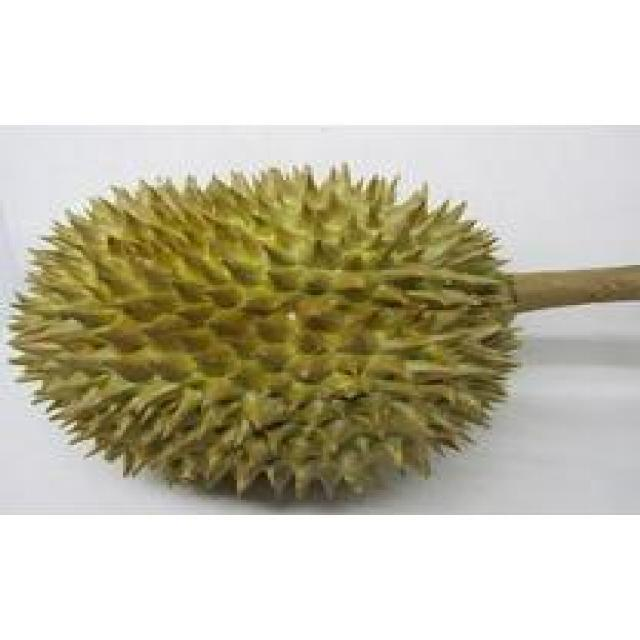fruit: (3, 127, 342, 525), (222, 132, 548, 520)
